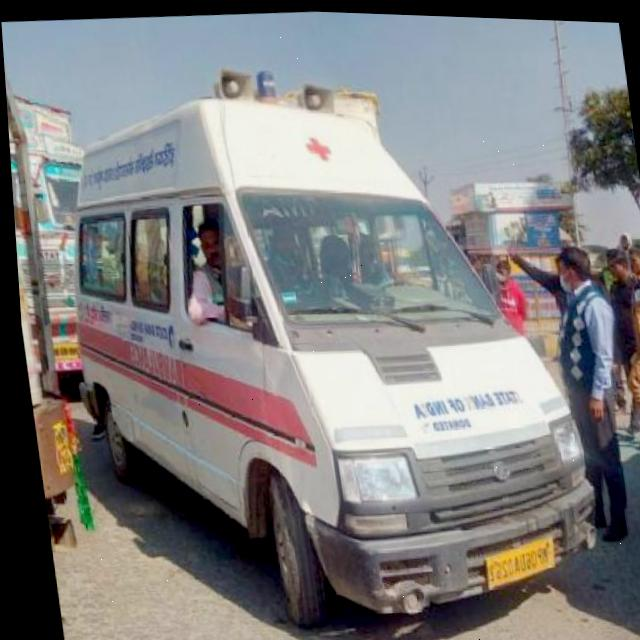emergency: (33, 37, 608, 640)
